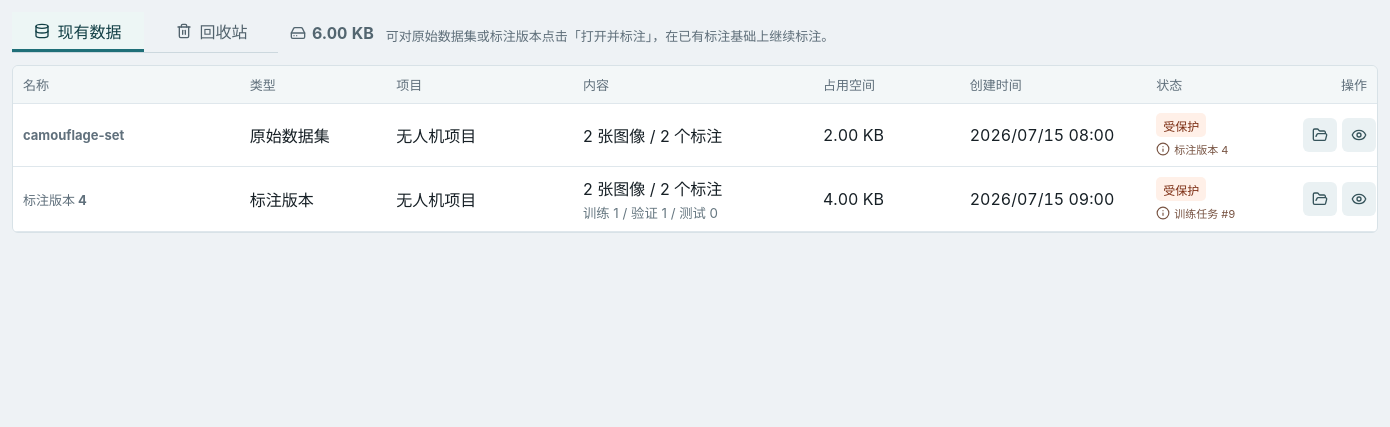
Test: StorageManagementView › 按回收站状态展示诊断信息并限制操作
This screenshot has width=1390, height=427.
Click the tab "回收站". click: (212, 32)
box: [146,12,278,52]
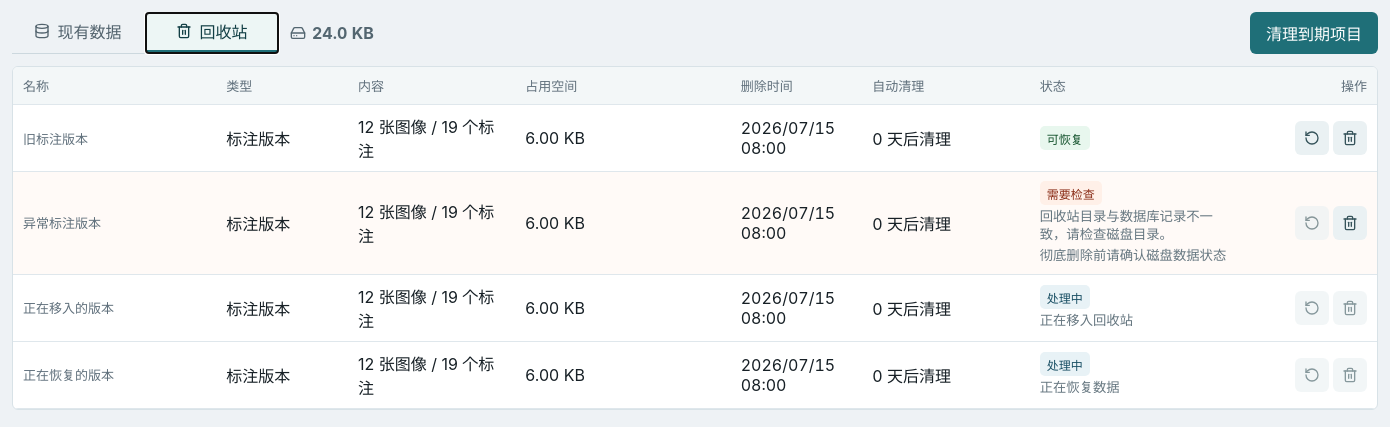
Now the text "可恢复" is shown, box [1040,126,1090,150]
Now the text "需要检查" is shown, box [1040,181,1102,205]
Now the text "回收站目录与数据库记录不一致，请检查磁盘目录。" is shown, box [1040,208,1235,244]
